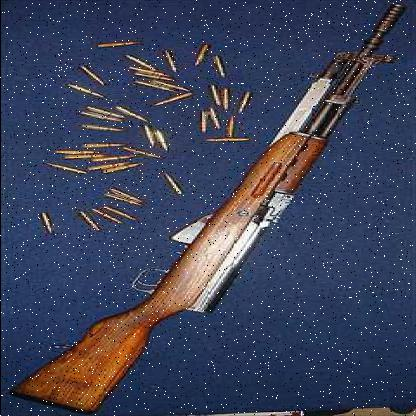rifle: (1, 5, 416, 414)
